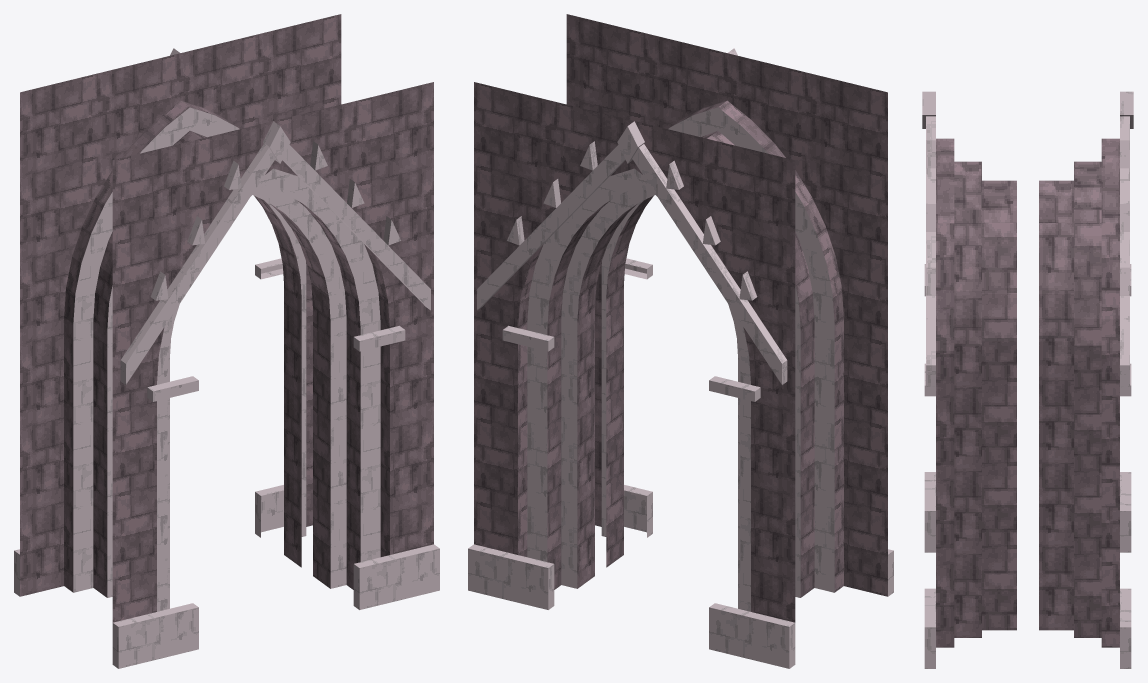
File: bosstor_gross_c_portal.glb
The picture shows the model from 3 angles, left to right: view 1: azimuth 30°, elevation 25°; view 2: azimuth 150°, elevation 25°; view 3: azimuth 270°, elevation 25°; orthographic projection.
Visible parts, largest first — view 1: portal_front, portal_back; view 2: portal_back, portal_front; view 3: portal_back, portal_front.
Boxes of the visible parts, box(x1,y1,x2,y2) form: portal_front: box(112, 82, 439, 668); portal_back: box(14, 14, 341, 597); portal_back: box(468, 82, 795, 668); portal_front: box(566, 14, 893, 597); portal_back: box(1039, 91, 1133, 668); portal_front: box(922, 91, 1016, 668).
Bounding box in the file's own units: 4 × 6 × 2.3.
1 material, 1 textured.
